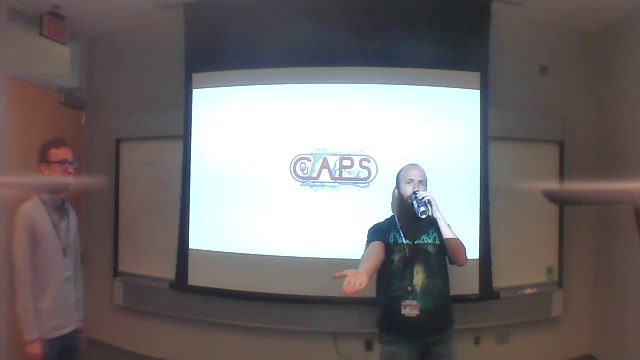land: (328, 263, 376, 305)
